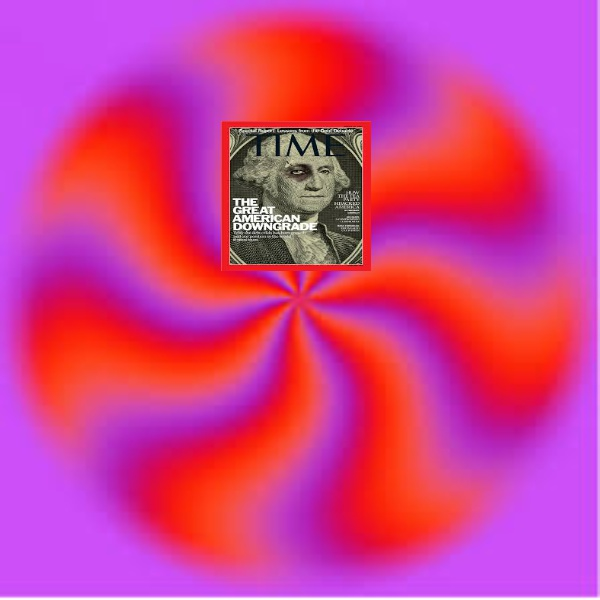time_cover: (213, 108, 377, 276)
